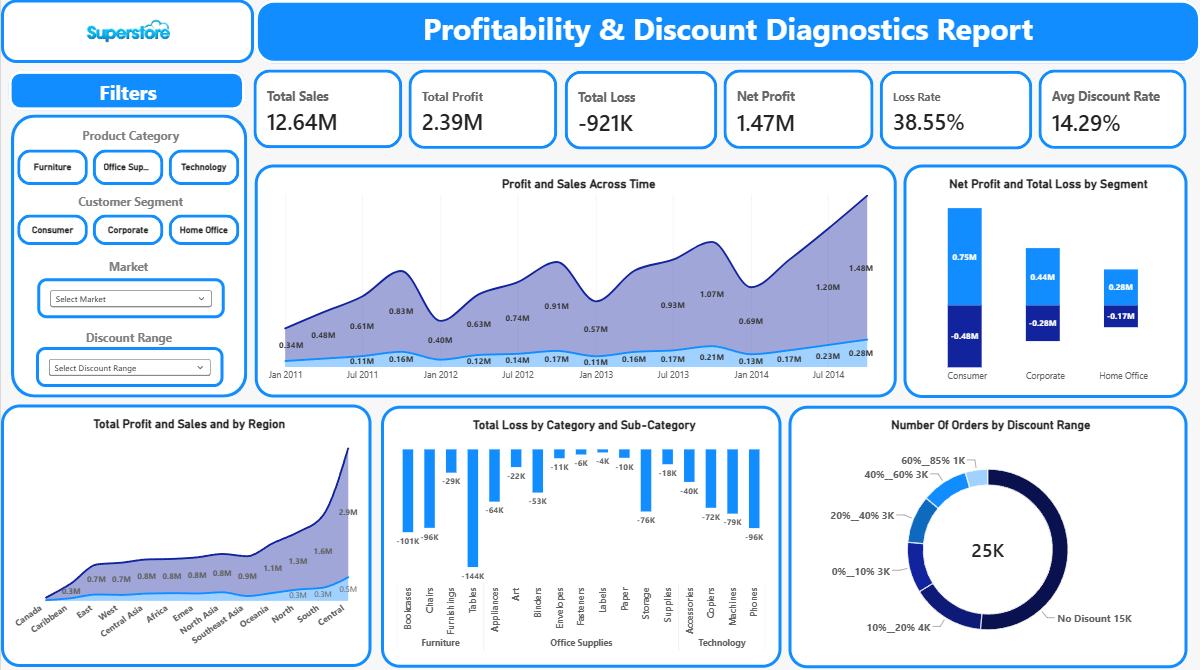

This screenshot's page, from the dashboard's own definition file:
{"tool":"powerbi","page":{"name":"Profitability & Discount Report","canvas":[1920,1080],"ordinal":5},"visuals":[{"type":"cardVisual","fields":{"Data":["Measurments.Net Profit"]},"box":[1155.6,116.3,240.6,127.5],"z":0},{"type":"cardVisual","fields":{"Data":["Measurments.Total Sales"]},"box":[404.6,116.3,238.3,126.7],"z":1000},{"type":"cardVisual","fields":{"Data":["Measurments.Total Profit"]},"box":[652.8,116.6,238.6,127.1],"z":2000},{"type":"cardVisual","fields":{"Data":["Measurments.Avg Discount Rate"]},"box":[1660.5,116.5,237.3,127.3],"z":3000},{"type":"cardVisual","fields":{"Data":["Measurments.Total Loss"]},"box":[901.3,117.1,244.4,126.7],"z":4000},{"type":"cardVisual","fields":{"Data":["Measurments.Loss Rate"]},"box":[1406.1,117.4,244.5,126.4],"z":5000},{"type":"shape","title":"Operational and Logistics Report","box":[405.4,3.8,1514.3,102.9],"z":6000},{"type":"shape","title":"Operational and Logistics Report","box":[11.8,117.3,378.6,63.6],"z":7000},{"type":"shape","title":"Operational and Logistics Report","box":[15.6,188.8,378,453],"z":8000},{"type":"image","box":[-0.4,3.8,405,101.2],"z":9000},{"type":"textbox","box":[405.2,16,1514,86],"z":10000},{"type":"textbox","box":[16.5,129.3,374,50],"z":11000},{"type":"stackedAreaChart","title":"Profit and Sales Across Time","fields":{"Category":["Orders.Order Date.Variation.Date Hierarchy.Year","Orders.Order Date.Variation.Date Hierarchy.Quarter"],"Y":["Measurments.Total Profit","Sum(Orders.Price)"]},"box":[405.7,268.6,1027.1,372.9],"z":12000},{"type":"columnChart","fields":{"Category":["Customer_Table.Segment"],"Y":["Measurments.Net Profit","Measurments.Total Loss"]},"box":[1443.3,268.9,454.4,373.3],"z":12001},{"type":"donutChart","fields":{"Category":["Orders.Discount Range"],"Y":["Measurments.Number Of Orders"]},"box":[1260,654,638,420],"z":12002},{"type":"clusteredColumnChart","fields":{"Category":["Product_Table.Category","Product_Table.Sub-Category"],"Y":["Measurments.Total Loss"]},"box":[607.8,654.4,641.1,418.9],"z":12003},{"type":"stackedAreaChart","title":"Total Profit and Sales and by Region","fields":{"Category":["Locations.Region"],"Y":["Measurments.Total Profit","Measurments.Total Sales"]},"box":[0,652.9,592.9,420],"z":12004},{"type":"advancedSlicerVisual","fields":{"Values":["Product_Table.Category"]},"box":[25.4,244.2,356.9,57.7],"z":12005},{"type":"textbox","box":[31.5,208,350.8,35.4],"z":12006},{"type":"listSlicer","fields":{"Values":["Orders.Discount Range"]},"box":[55,560,300,64],"z":12007},{"type":"textbox","box":[16,532,377,28],"z":12008},{"type":"advancedSlicerVisual","fields":{"Values":["Customer_Table.Segment"]},"box":[25.4,347.7,356.9,49.2],"z":12009},{"type":"textbox","box":[31.5,313.9,350.8,27.7],"z":12010},{"type":"listSlicer","fields":{"Values":["Locations.Market"]},"box":[57.2,449.6,300,64],"z":12011},{"type":"textbox","box":[16.2,417.6,376,32],"z":12012}]}

Visuals, with their boxes in screenshot pixels (x1, y1, x2, y2), scaled from the page's 1920x1080 canvas onto the 1200x670 screenshot:
cardVisual - Measurments.Net Profit: bbox=[722, 72, 873, 151]
cardVisual - Measurments.Total Sales: bbox=[253, 72, 402, 151]
cardVisual - Measurments.Total Profit: bbox=[408, 72, 557, 151]
cardVisual - Measurments.Avg Discount Rate: bbox=[1038, 72, 1186, 151]
cardVisual - Measurments.Total Loss: bbox=[563, 73, 716, 151]
cardVisual - Measurments.Loss Rate: bbox=[879, 73, 1032, 151]
"Operational and Logistics Report" shape: bbox=[253, 2, 1199, 66]
"Operational and Logistics Report" shape: bbox=[7, 73, 244, 112]
"Operational and Logistics Report" shape: bbox=[10, 117, 246, 398]
image: bbox=[0, 2, 253, 65]
textbox: bbox=[253, 10, 1199, 63]
textbox: bbox=[10, 80, 244, 111]
"Profit and Sales Across Time" stackedAreaChart: bbox=[254, 167, 896, 398]
columnChart - Customer_Table.Segment x Measurments.Net Profit: bbox=[902, 167, 1186, 398]
donutChart - Orders.Discount Range x Measurments.Number Of Orders: bbox=[788, 406, 1186, 666]
clusteredColumnChart - Product_Table.Category x Product_Table.Sub-Category: bbox=[380, 406, 781, 666]
"Total Profit and Sales and by Region" stackedAreaChart: bbox=[0, 405, 371, 666]
advancedSlicerVisual - Product_Table.Category: bbox=[16, 151, 239, 187]
textbox: bbox=[20, 129, 239, 151]
listSlicer - Orders.Discount Range: bbox=[34, 347, 222, 387]
textbox: bbox=[10, 330, 246, 347]
advancedSlicerVisual - Customer_Table.Segment: bbox=[16, 216, 239, 246]
textbox: bbox=[20, 195, 239, 212]
listSlicer - Locations.Market: bbox=[36, 279, 223, 319]
textbox: bbox=[10, 259, 245, 279]
